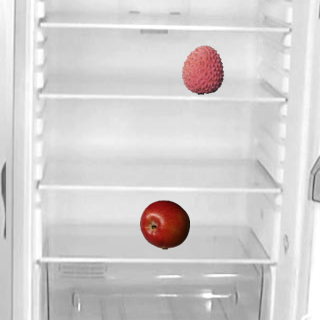Apple Braeburn: (139, 199, 189, 249)
Lychee: (177, 44, 227, 94)
